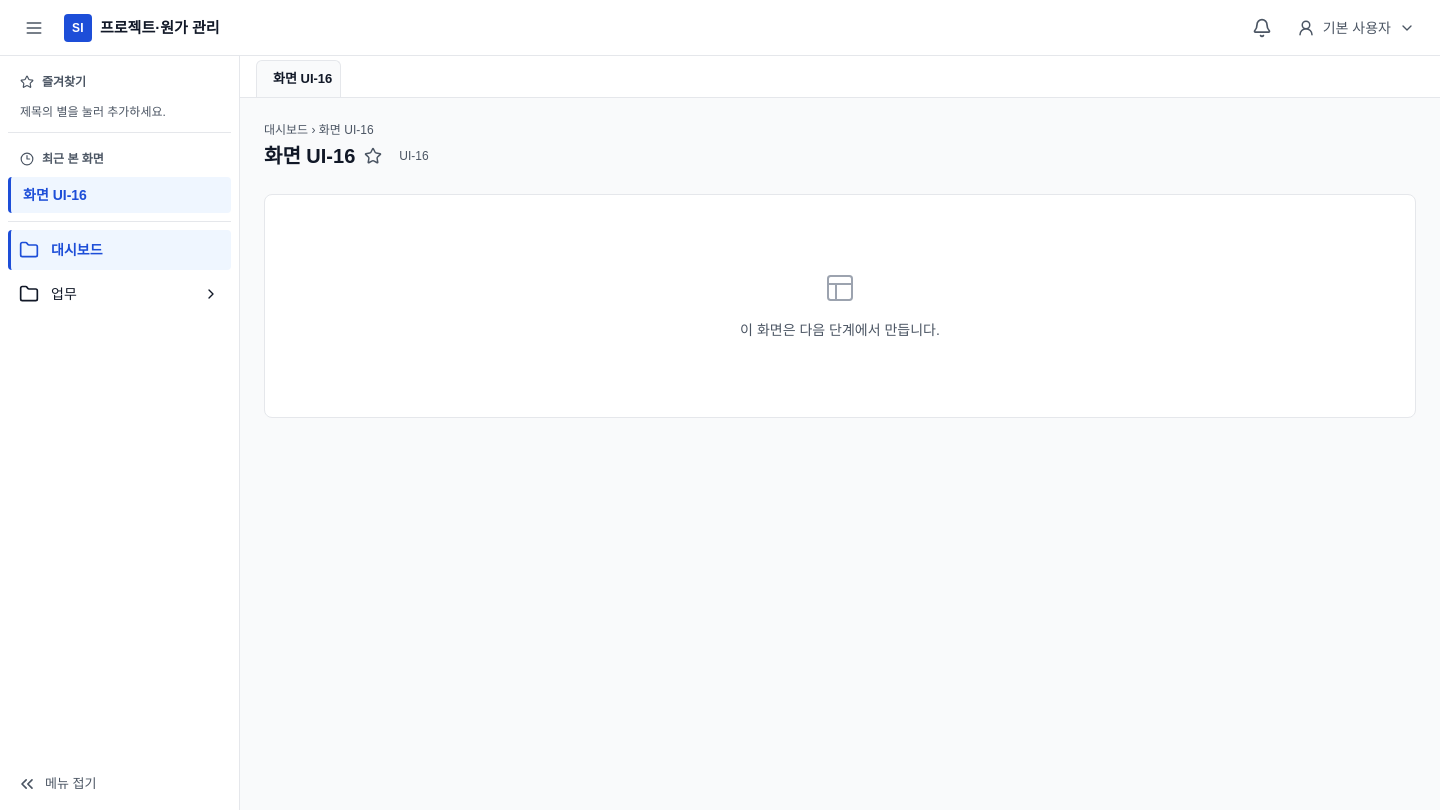
루트는 대시보드로 연결하고 API 메뉴로 같은 공유 shell 안에서 이동한다
This screenshot has width=1440, height=810.
expect the heading "화면 UI-16" is shown: met, box [264,142,355,170]
Click the button "업무" at (120, 294), box [8,274,231,314]
(page scrolled)
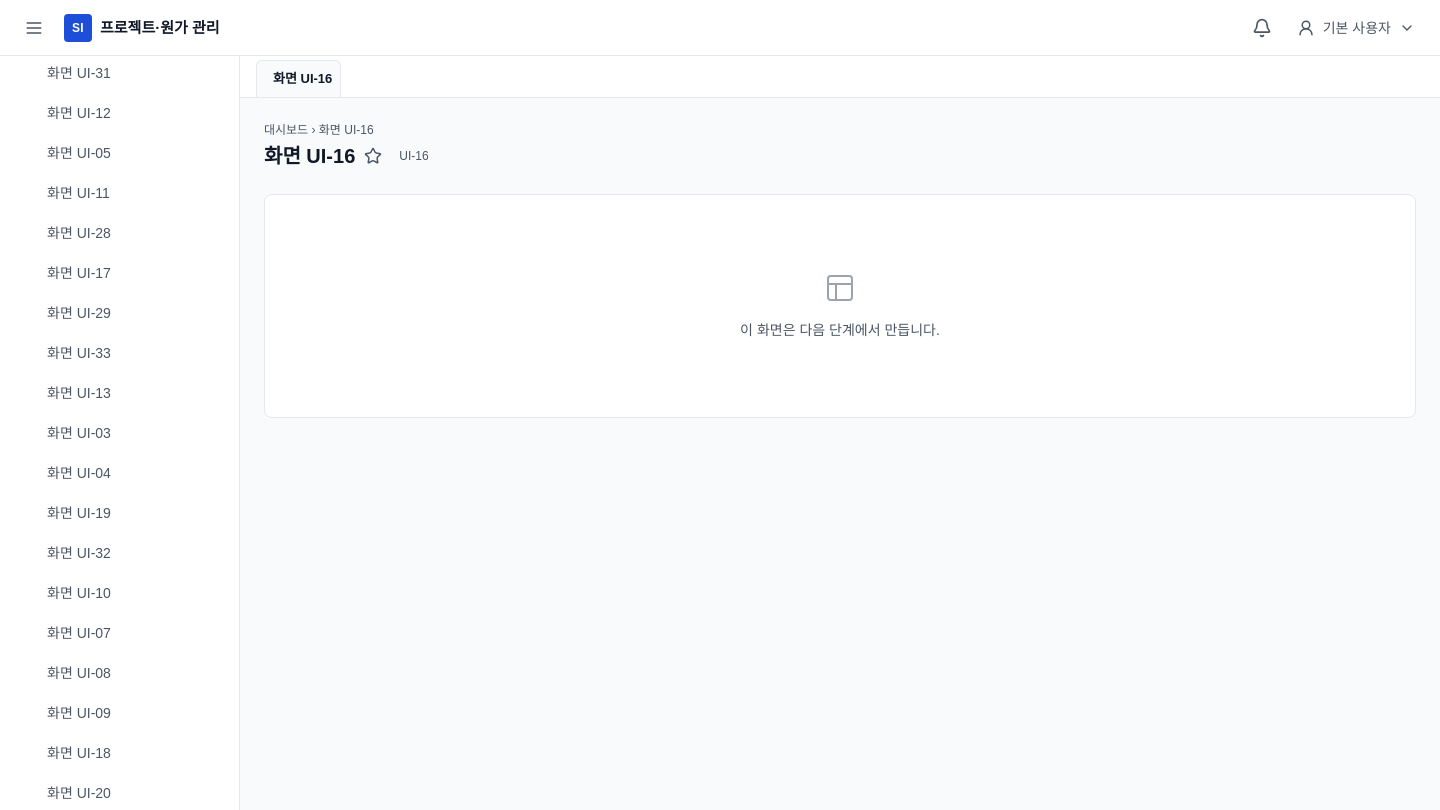
Click the link "화면 UI-03" at (79, 433), box [47,425,111,441]
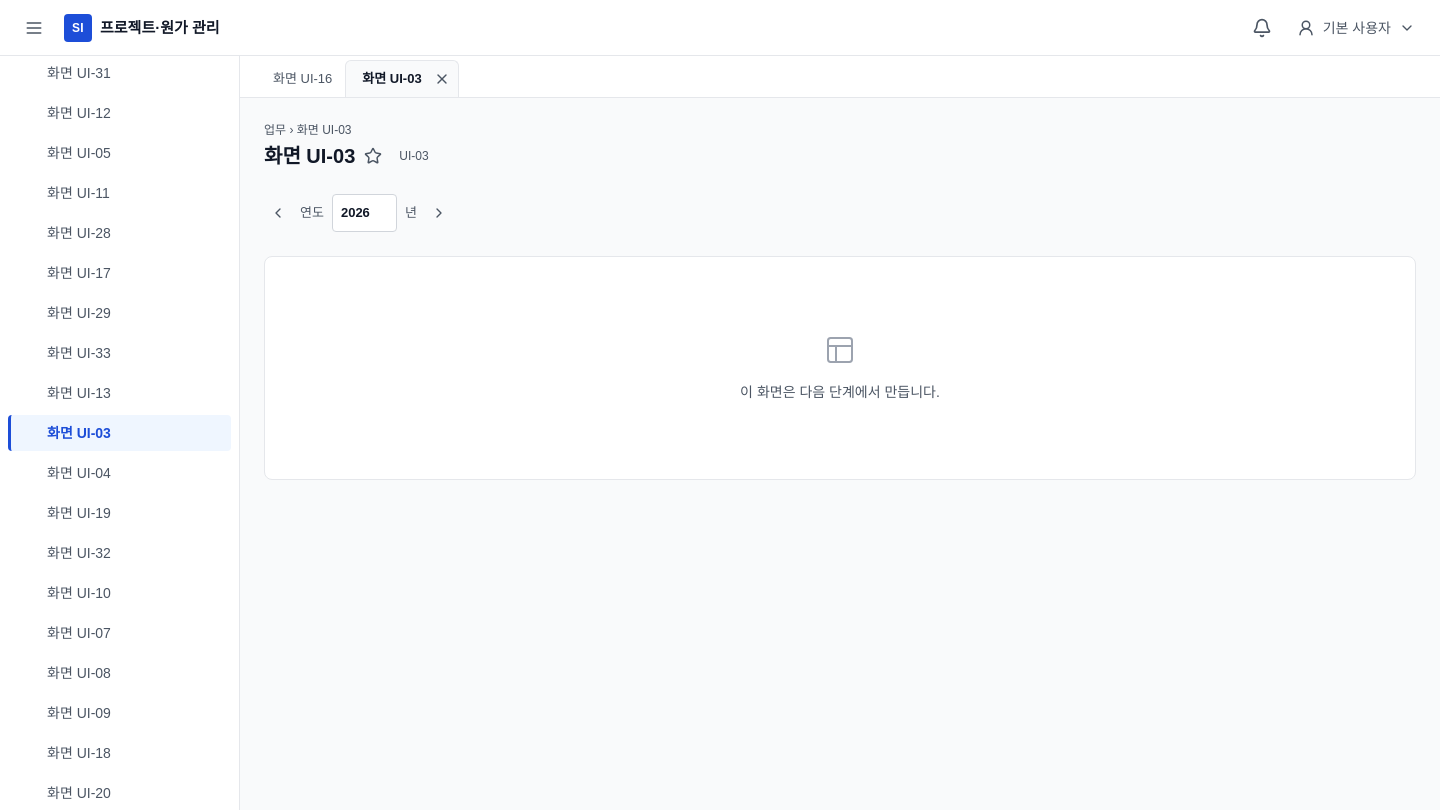
expect the heading "화면 UI-03" is shown: met, box [264,142,355,170]
expect the text "UI-03" is shown: met, box [399,148,429,164]
